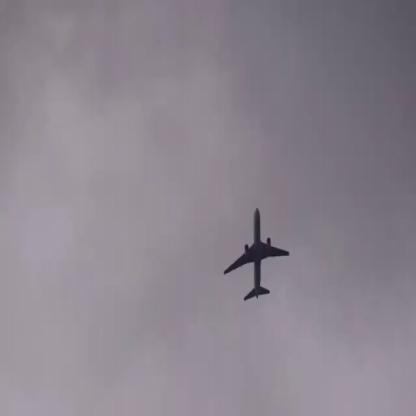CIV_Plane: (222, 206, 290, 300)
